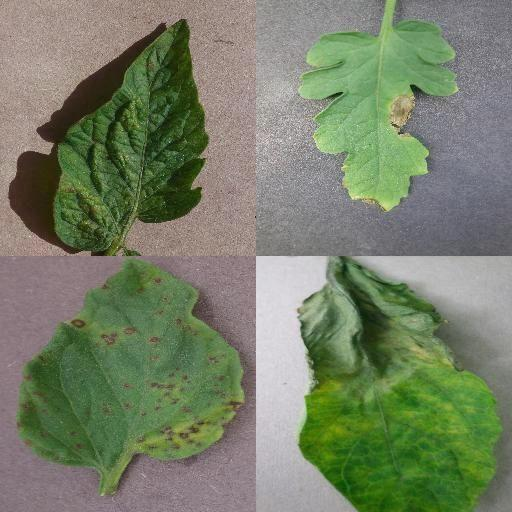Late Blight: (293, 256, 501, 512), (295, 19, 461, 215)
Septoria: (16, 257, 246, 469)
Spider Mites: (53, 17, 209, 253)
